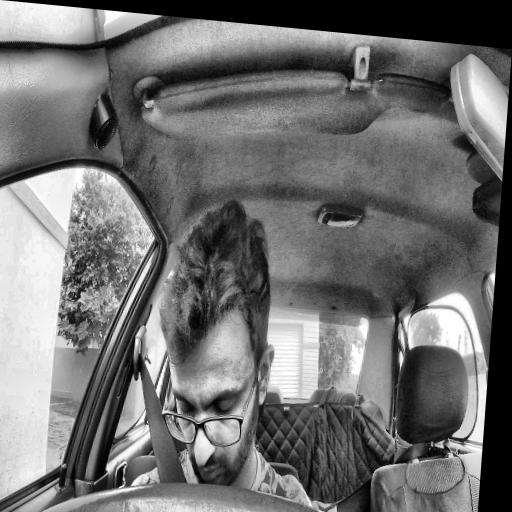drowsy: (145, 189, 286, 494)
